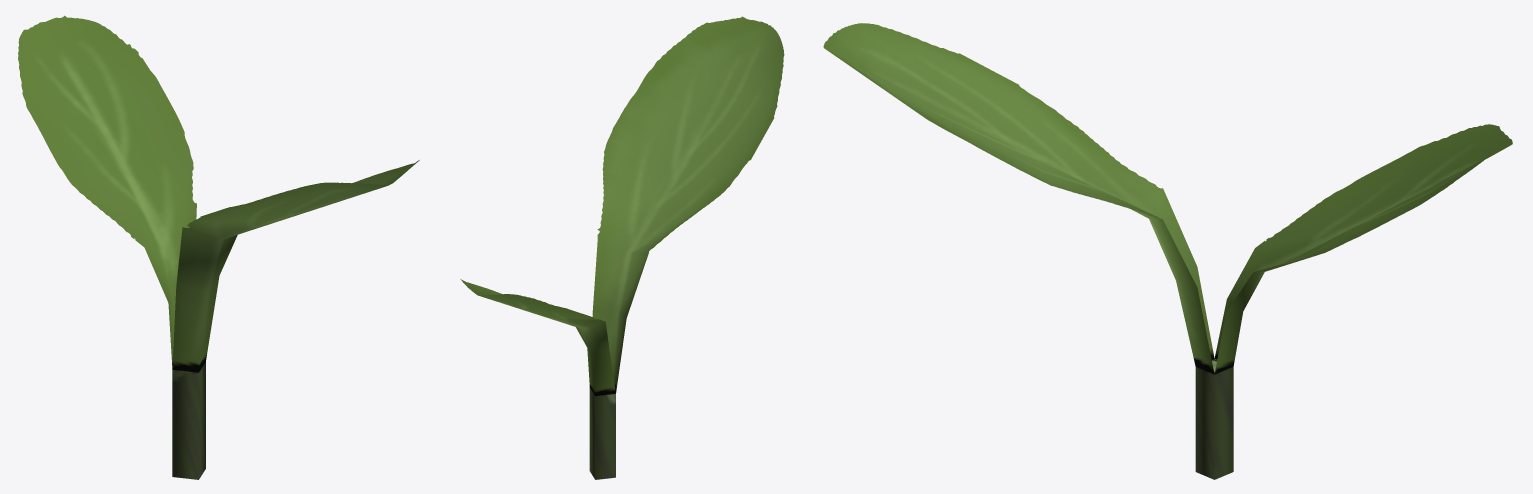
The model's file is SM_Potato_Growing1.fbx.
3 views of the same model, side by side, from view 1: azimuth 30°, elevation 25°; view 2: azimuth 150°, elevation 25°; view 3: azimuth 270°, elevation 25° (orthographic). The views are drawn at different scales.
Visible parts, largest first — view 1: SM_Potato_Growing1; view 2: SM_Potato_Growing1; view 3: SM_Potato_Growing1.
Boxes of the visible parts, x1,y1,x2,y2 form: SM_Potato_Growing1: [18, 15, 419, 479]; SM_Potato_Growing1: [460, 16, 784, 479]; SM_Potato_Growing1: [823, 23, 1512, 479].
Bounding box in the file's own units: 7.06 × 16.61 × 24.43.
